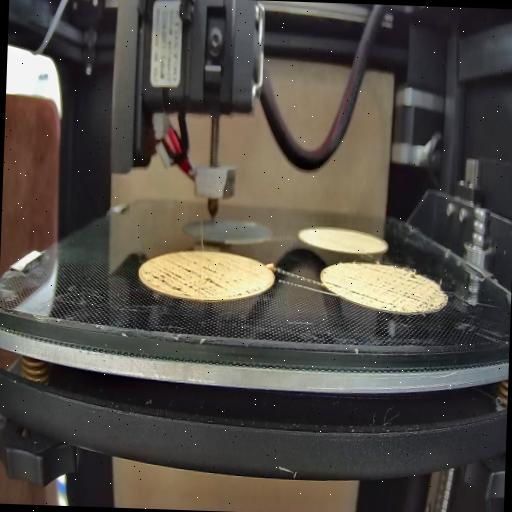under_extrusion: (140, 258, 260, 294), (396, 266, 444, 308), (324, 282, 388, 302)
